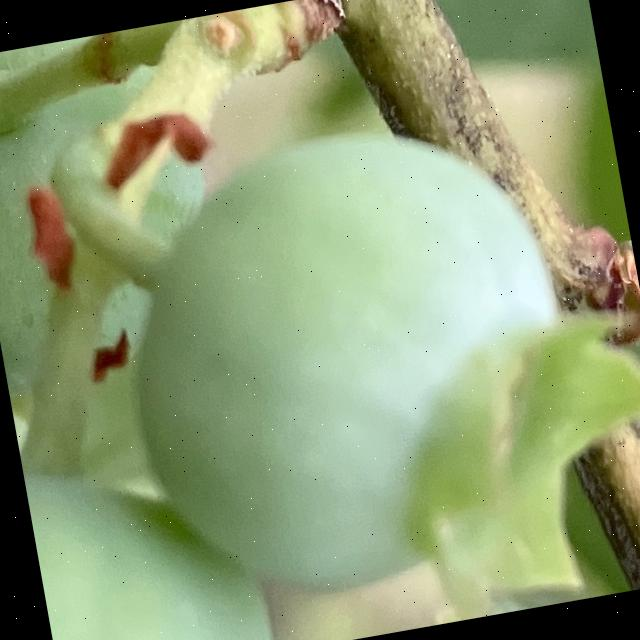Blueberries: (95, 84, 640, 640)
